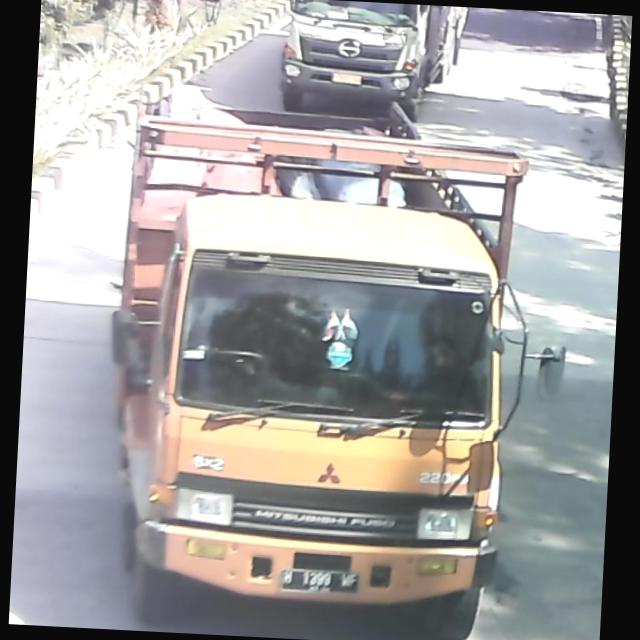plate: (276, 565, 366, 600)
